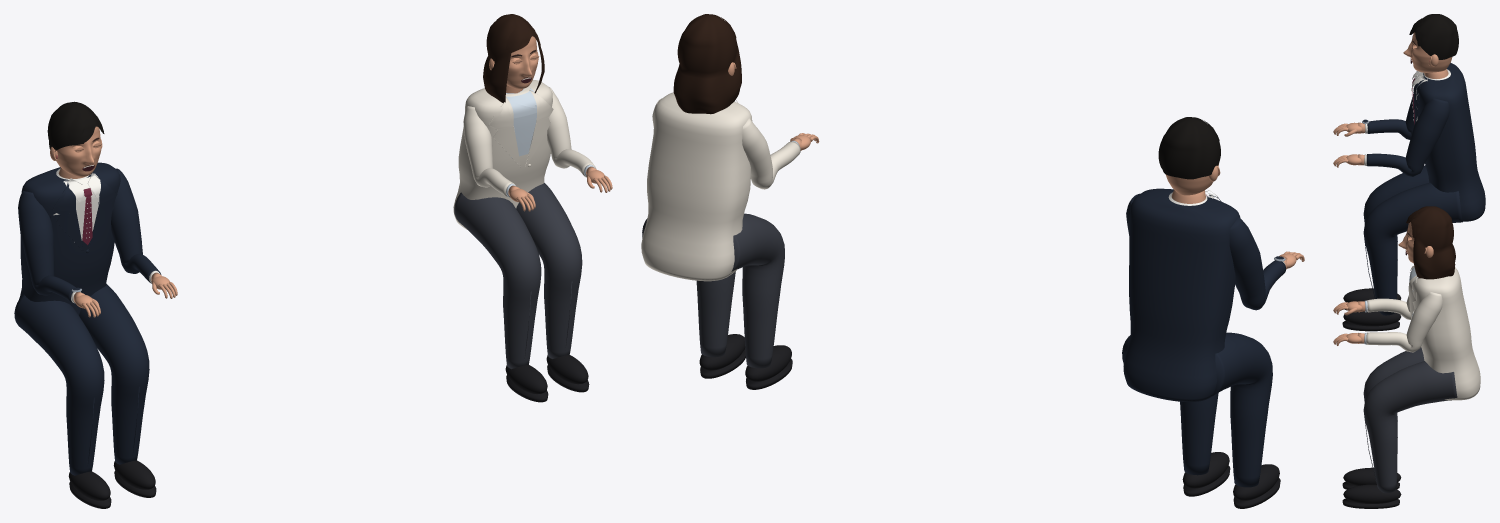
File: news-anchors.glb
3 views of the same model, side by side, from view 1: azimuth 30°, elevation 25°; view 2: azimuth 150°, elevation 25°; view 3: azimuth 270°, elevation 25° (orthographic). The views are drawn at different scales.
Visible parts, largest first — view 1: AnchorM_Body, AnchorF_Body, AnchorF_Head, AnchorM_Head; view 2: AnchorM_Body, AnchorF_Body, AnchorF_Head, AnchorM_Head; view 3: AnchorM_Body, AnchorF_Body, AnchorF_Head, AnchorM_Head.
Boxes of the visible parts, x1,y1,x2,y2 form: AnchorM_Body: [14, 162, 177, 508]; AnchorF_Body: [453, 79, 612, 402]; AnchorF_Head: [483, 14, 544, 103]; AnchorM_Head: [47, 101, 104, 178]; AnchorM_Body: [1122, 188, 1304, 508]; AnchorF_Body: [641, 92, 819, 389]; AnchorF_Head: [673, 14, 741, 114]; AnchorM_Head: [1158, 117, 1220, 203]; AnchorM_Body: [1333, 63, 1485, 331]; AnchorF_Body: [1333, 265, 1480, 508]; AnchorF_Head: [1398, 206, 1455, 279]; AnchorM_Head: [1403, 14, 1458, 78].
Size of the model in its own units: 2.11 by 1.34 by 0.6135.
